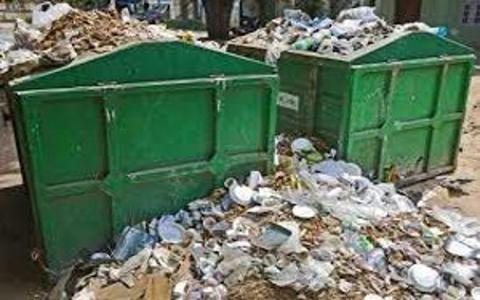overflowing garbage: (1, 4, 294, 298), (300, 1, 476, 281)
